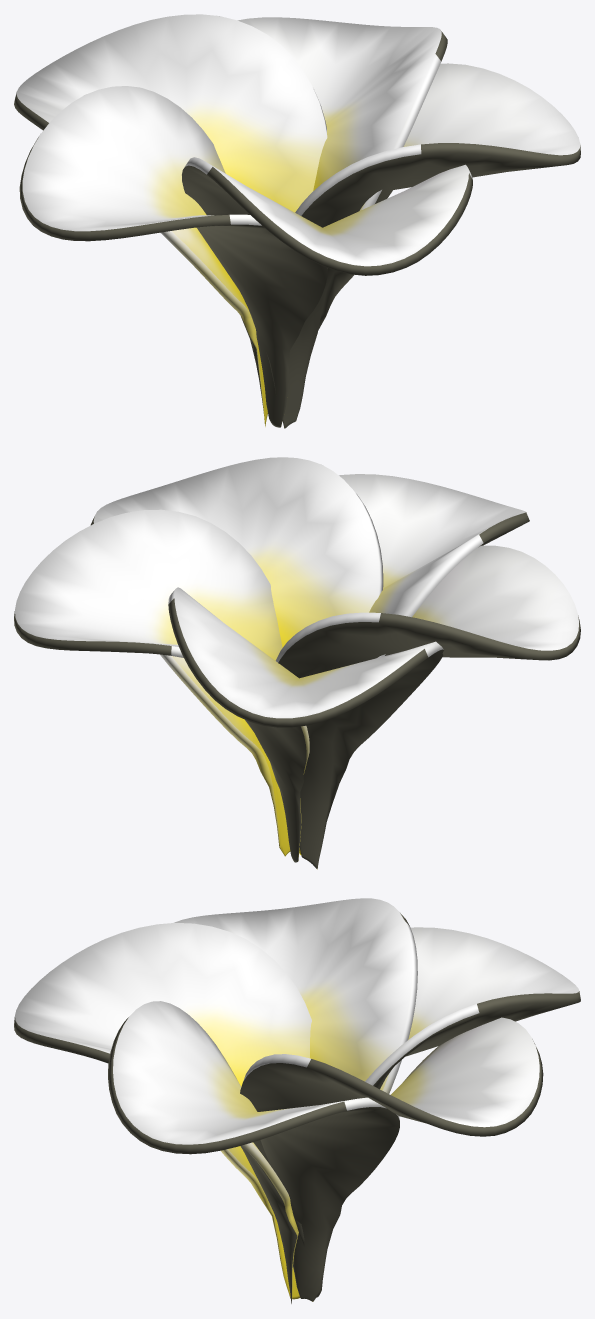
Rendered from Champa.fbx.
The picture shows the model from 3 angles, top to bottom: view 1: azimuth 30°, elevation 25°; view 2: azimuth 150°, elevation 25°; view 3: azimuth 270°, elevation 25°; orthographic projection. The views are drawn at different scales.
Visible parts, largest first — view 1: Circle; view 2: Circle; view 3: Circle.
Part boxes in pixels (left/top/right/bottom): Circle: left=14, top=14, right=580, bottom=428; Circle: left=14, top=457, right=580, bottom=869; Circle: left=14, top=898, right=580, bottom=1303.
Size of the model in its own units: 285 by 179 by 286.
1 material, 1 textured.
